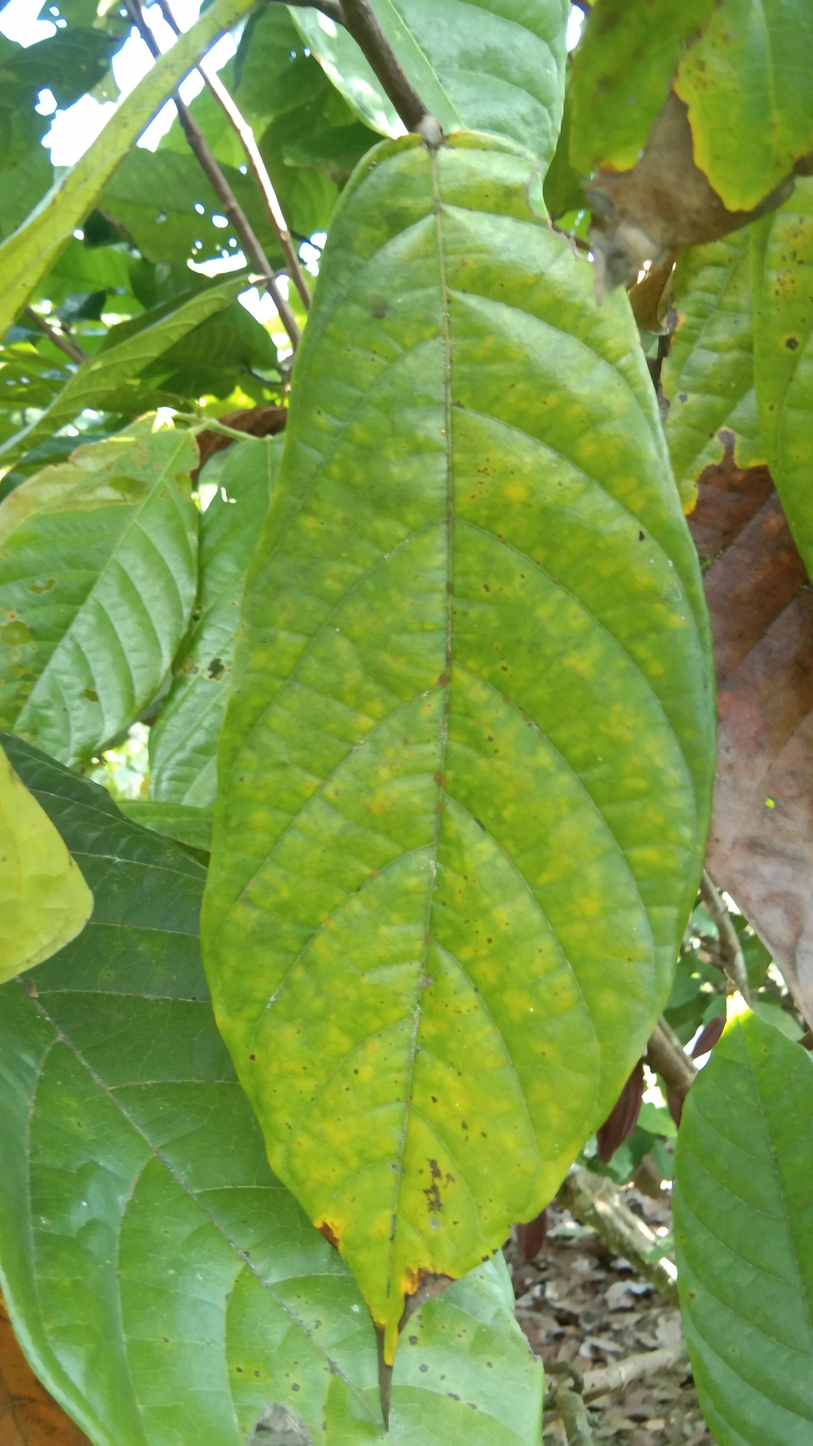deficiencia_potasio: (205, 143, 716, 1373)
